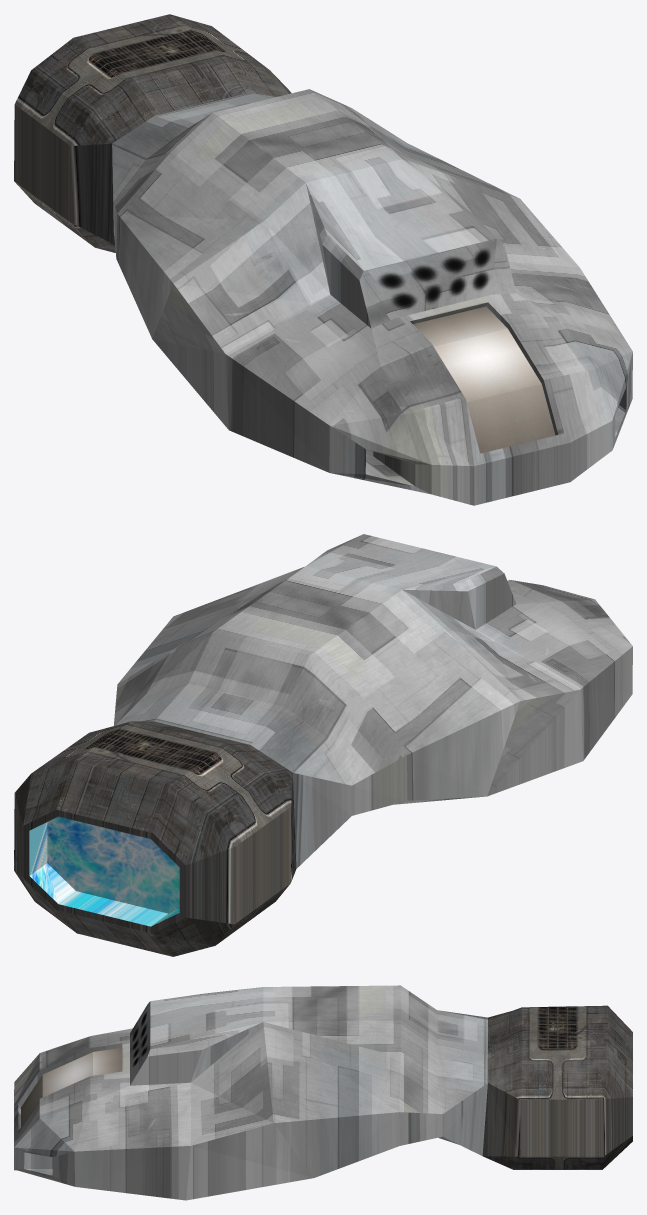
The model's file is PHFighter.FBX.
The picture shows the model from 3 angles, top to bottom: view 1: azimuth 30°, elevation 25°; view 2: azimuth 150°, elevation 25°; view 3: azimuth 270°, elevation 25°; orthographic projection. The views are drawn at different scales.
Visible parts, largest first — view 1: Hull; view 2: Hull; view 3: Hull.
Boxes of the visible parts, left/top/right/bottom form: Hull: left=14, top=14, right=632, bottom=505; Hull: left=14, top=534, right=632, bottom=956; Hull: left=14, top=985, right=632, bottom=1200.
Size of the model in its own units: 4.92 by 3 by 10.05.
Materials: 1 (1 with a texture image).
